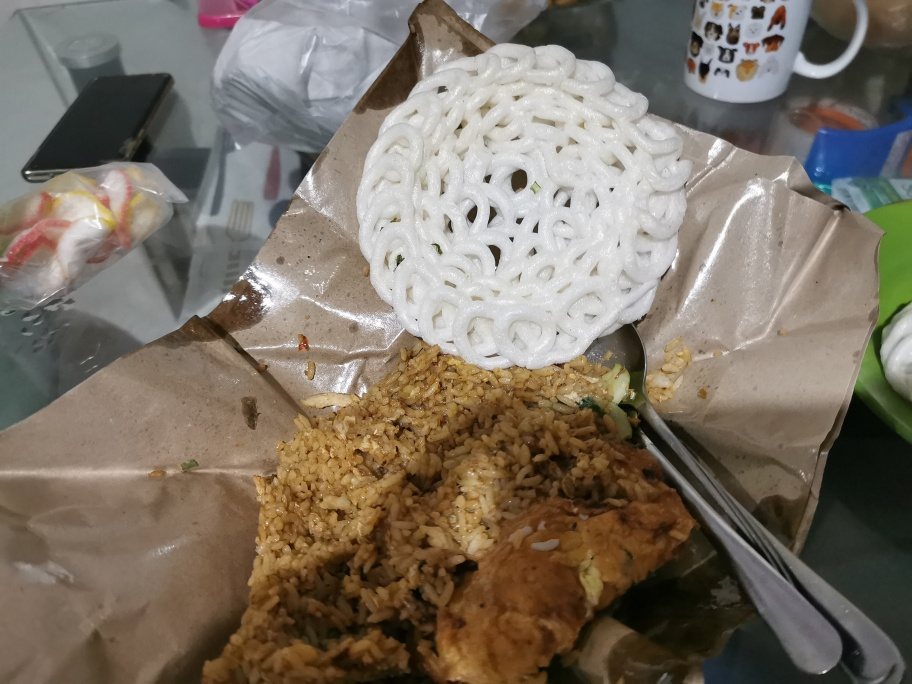kerupuk: (353, 42, 691, 359)
nasi goreng: (227, 360, 698, 684)
